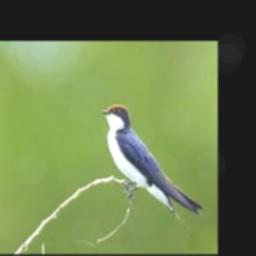Swallow: (100, 105, 204, 217)
